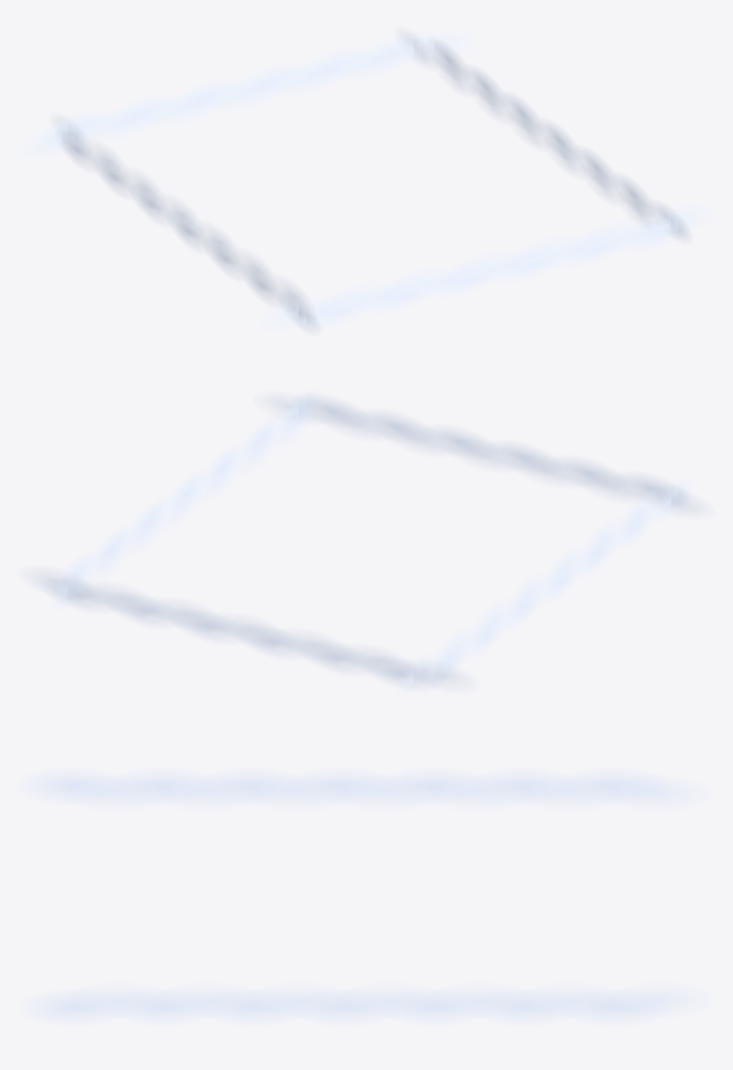
Rendered from fog_walls.glb.
3 renders of one model, top to bottom at view 1: azimuth 30°, elevation 25°; view 2: azimuth 150°, elevation 25°; view 3: azimuth 270°, elevation 25°, orthographic. The views are drawn at different scales.
Visible parts, largest first — view 1: fog_walls; view 2: fog_walls; view 3: fog_walls.
Part boxes in pixels (x1,y1,x2,y2): fog_walls: (25,32,707,331); fog_walls: (26,391,706,690); fog_walls: (25,770,702,1023).
Bounding box in the file's own units: 146 × 10 × 156.
Materials: 2 (2 with a texture image).
